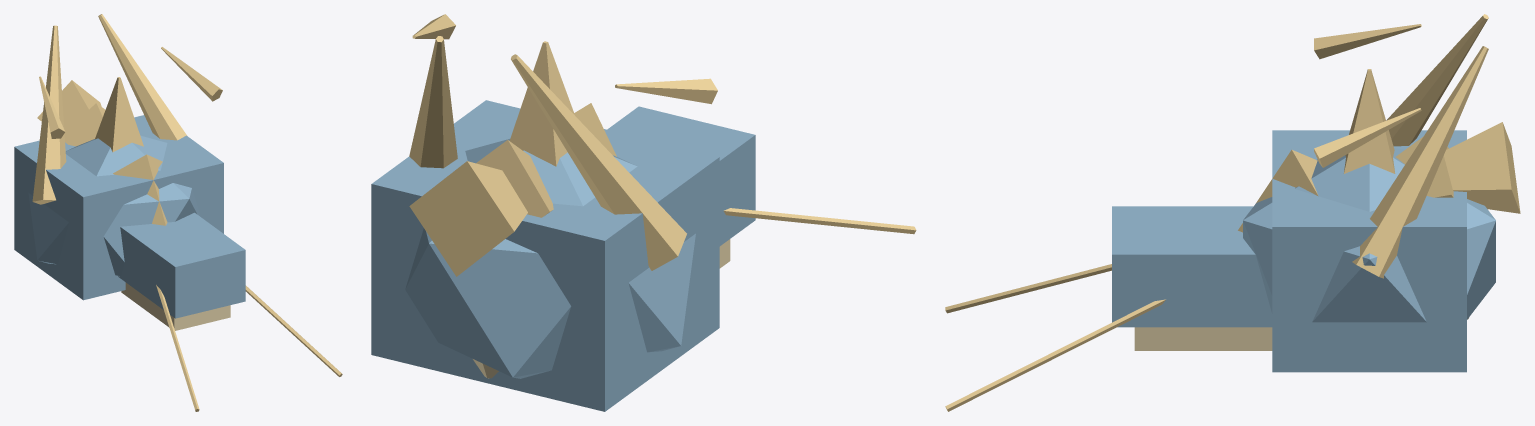
Rendered from dragon.glb.
The picture shows the model from 3 angles, left to right: view 1: azimuth 30°, elevation 25°; view 2: azimuth 150°, elevation 25°; view 3: azimuth 270°, elevation 25°; orthographic projection. The views are drawn at different scales.
Parts seen in each view (by area): view 1: skull, snout, orb, antler-1, antler1, fin, jaw, mane3, mane0, mane1, branch1, whisker1 (+2 smaller); view 2: skull, orb, mane0, antler-1, snout, antler1, fin, mane1, whisker-1, branch-1, mane3, branch1; view 3: skull, snout, orb, antler1, mane0, jaw, antler-1, fin, whisker1, branch1, branch-1, mane3 (+2 smaller).
Part boxes in pixels (left/top/right/bottom): skull: left=14, top=115, right=223, bottom=300; snout: left=118, top=212, right=245, bottom=318; orb: left=28, top=135, right=200, bottom=276; antler-1: left=32, top=25, right=66, bottom=204; antler1: left=98, top=14, right=187, bottom=140; fin: left=95, top=77, right=143, bottom=152; jaw: left=121, top=282, right=230, bottom=330; mane3: left=113, top=154, right=167, bottom=225; mane0: left=37, top=80, right=101, bottom=130; mane1: left=64, top=103, right=105, bottom=146; branch1: left=161, top=47, right=222, bottom=101; whisker1: left=245, top=285, right=342, bottom=376; skull: left=371, top=100, right=719, bottom=411; orb: left=405, top=139, right=695, bottom=378; mane0: left=409, top=161, right=527, bottom=276; antler-1: left=511, top=54, right=686, bottom=270; snout: left=607, top=106, right=755, bottom=246; antler1: left=409, top=36, right=457, bottom=168; fin: left=509, top=41, right=574, bottom=166; mane1: left=476, top=140, right=553, bottom=217; whisker-1: left=723, top=208, right=916, bottom=234; branch-1: left=615, top=78, right=717, bottom=104; mane3: left=574, top=103, right=616, bottom=156; branch1: left=412, top=14, right=455, bottom=39; skull: left=1272, top=130, right=1466, bottom=372; snout: left=1112, top=206, right=1272, bottom=327; orb: left=1243, top=148, right=1495, bottom=322; antler1: left=1352, top=46, right=1488, bottom=278; mane0: left=1444, top=122, right=1520, bottom=213; jaw: left=1134, top=327, right=1272, bottom=350; antler-1: left=1386, top=14, right=1488, bottom=146; fin: left=1344, top=69, right=1395, bottom=173; whisker1: left=945, top=299, right=1165, bottom=411; branch1: left=1314, top=108, right=1421, bottom=167; branch-1: left=1314, top=24, right=1421, bottom=59; mane3: left=1238, top=150, right=1318, bottom=232.
Size of the model in its own units: 0.4908 by 0.6388 by 1.
